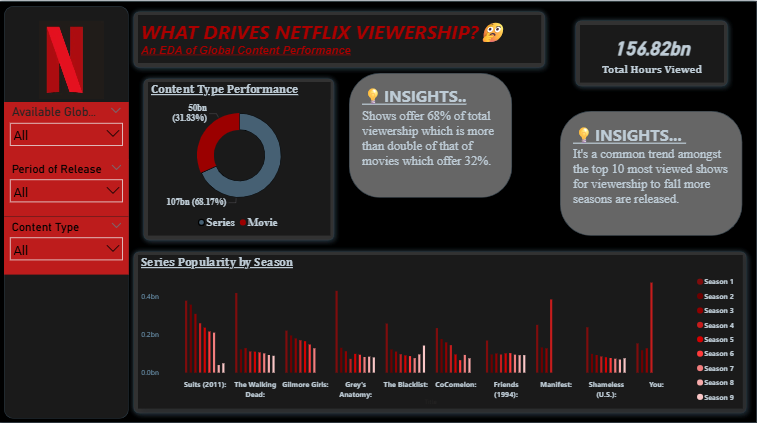

What the dashboard file says about the page in this screenshot:
{"tool":"powerbi","page":{"name":"Page 1","canvas":[1280,720],"ordinal":0},"visuals":[{"type":"textbox","box":[944,64,16,16],"z":0},{"type":"shape","box":[0,0,1280,720],"z":1000},{"type":"shape","box":[16,16,208,688],"z":2000},{"type":"slicer","fields":{"Values":["netflix_content.Available Globally?"]},"box":[16,176,208,96],"z":3000},{"type":"slicer","fields":{"Values":["netflix_content.Release Period (Seasons)"]},"box":[16,272,208,96],"z":4000},{"type":"slicer","fields":{"Values":["netflix_content.Content Type"]},"box":[16,368,208,96],"z":5000},{"type":"shape","box":[224,416,1040,288],"z":6000},{"type":"clusteredColumnChart","title":"Series Popularity by Season","fields":{"Y":["Sum(netflix_content.Hours Viewed)"],"Category":["netflix_content.Title"],"Series":["netflix_content.Seasons (Series)"]},"box":[240,432,1008,256],"z":7000},{"type":"shape","box":[224,16,704,112],"z":8000},{"type":"textbox","box":[240,32,672,80],"z":9000},{"type":"shape","box":[240,128,336,288],"z":10000},{"type":"donutChart","title":"Content Type Performance","fields":{"Y":["Sum(netflix_content.Hours Viewed)"],"Category":["netflix_content.Content Type"]},"box":[256,144,304,256],"z":11000},{"type":"shape","box":[592,128,272,208],"z":12000},{"type":"shape","box":[960,32,272,128],"z":13000},{"type":"card","fields":{"Values":["netflix_content.Total Hours Viewed"]},"box":[976,48,240,96],"z":14000},{"type":"image","box":[70,16,176,160],"z":15000},{"type":"shape","box":[944,192,304,208],"z":16000},{"type":"textbox","box":[608,144,192,48],"z":17000},{"type":"textbox","box":[960,208,256,48],"z":18000},{"type":"textbox","box":[608,183,240,128],"z":19000},{"type":"textbox","box":[960,247,272,137],"z":20000}]}

Visuals, with their boxes in screenshot pixels (x1, y1, x2, y2), scaled from the page's 1280x720 canvas onto the 757x423 screenshot:
textbox: {"x1": 558, "y1": 38, "x2": 568, "y2": 47}
shape: {"x1": 0, "y1": 0, "x2": 756, "y2": 422}
shape: {"x1": 9, "y1": 9, "x2": 132, "y2": 414}
slicer - netflix_content.Available Globally?: {"x1": 9, "y1": 103, "x2": 132, "y2": 160}
slicer - netflix_content.Release Period (Seasons): {"x1": 9, "y1": 160, "x2": 132, "y2": 216}
slicer - netflix_content.Content Type: {"x1": 9, "y1": 216, "x2": 132, "y2": 273}
shape: {"x1": 132, "y1": 244, "x2": 748, "y2": 414}
"Series Popularity by Season" clusteredColumnChart: {"x1": 142, "y1": 254, "x2": 738, "y2": 404}
shape: {"x1": 132, "y1": 9, "x2": 549, "y2": 75}
textbox: {"x1": 142, "y1": 19, "x2": 539, "y2": 66}
shape: {"x1": 142, "y1": 75, "x2": 341, "y2": 244}
"Content Type Performance" donutChart: {"x1": 151, "y1": 85, "x2": 331, "y2": 235}
shape: {"x1": 350, "y1": 75, "x2": 511, "y2": 197}
shape: {"x1": 568, "y1": 19, "x2": 729, "y2": 94}
card - netflix_content.Total Hours Viewed: {"x1": 577, "y1": 28, "x2": 719, "y2": 85}
image: {"x1": 41, "y1": 9, "x2": 145, "y2": 103}
shape: {"x1": 558, "y1": 113, "x2": 738, "y2": 235}
textbox: {"x1": 360, "y1": 85, "x2": 473, "y2": 113}
textbox: {"x1": 568, "y1": 122, "x2": 719, "y2": 150}
textbox: {"x1": 360, "y1": 108, "x2": 502, "y2": 183}
textbox: {"x1": 568, "y1": 145, "x2": 729, "y2": 226}
